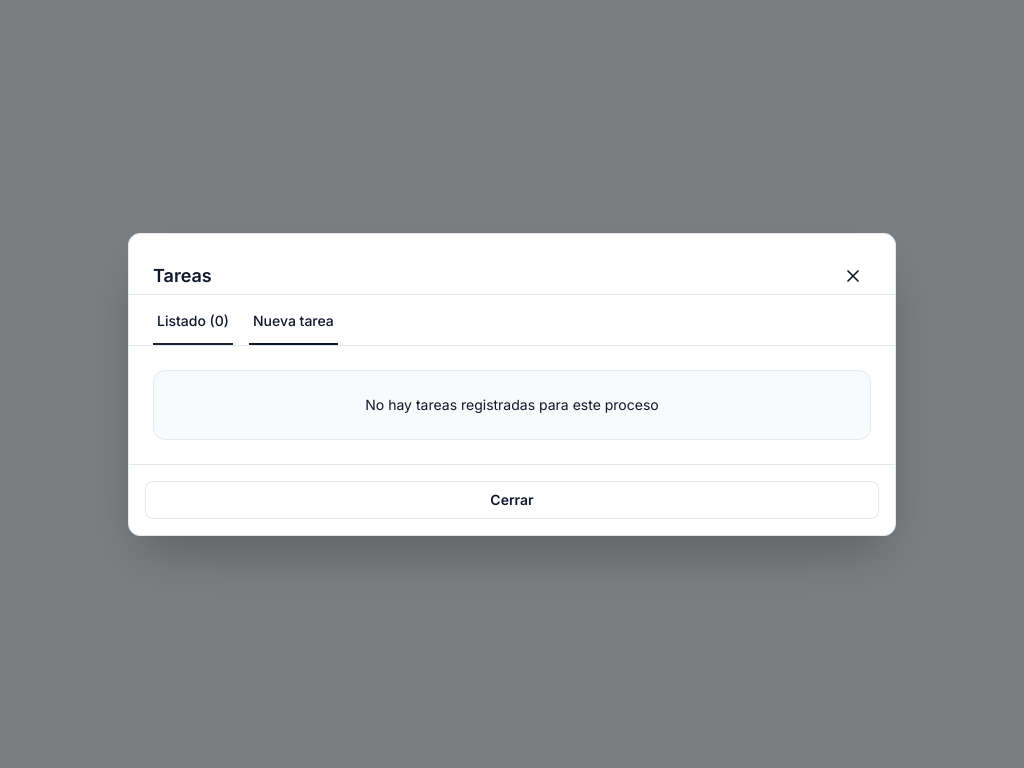
ProcessTasksModalComponent › cambia a la pestaña "Nueva tarea" al hacer clic
Step 1. Click the button "Nueva tarea" → click(293, 328), box top-left (249, 310), bottom-right (338, 344)
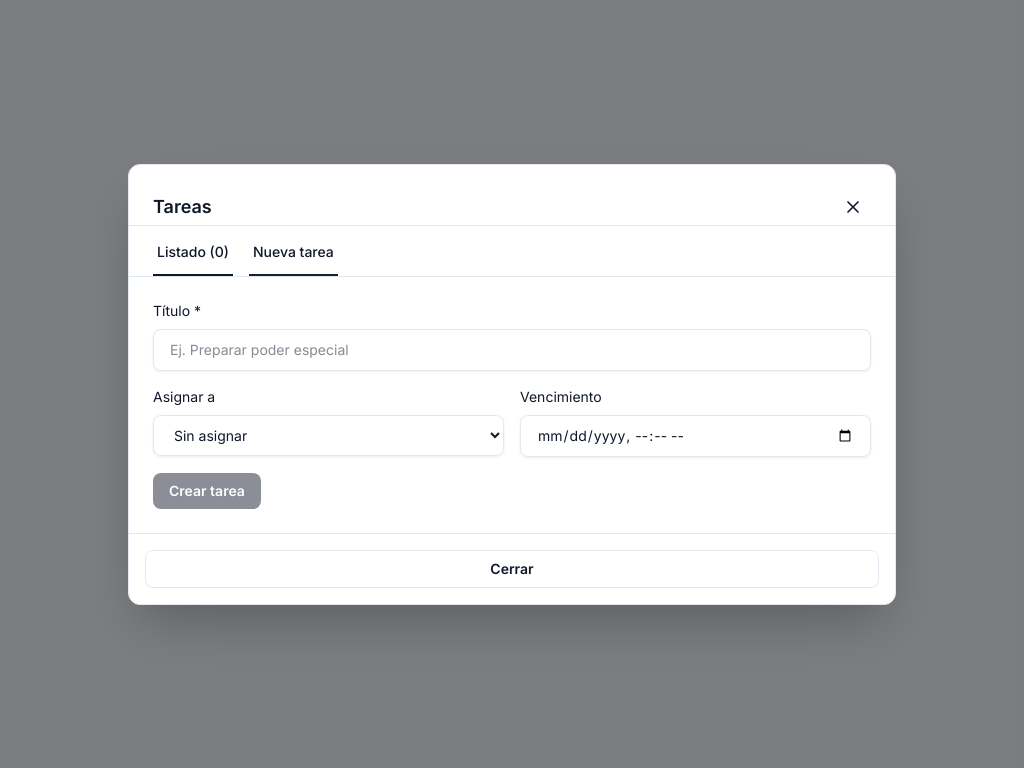
Expected: the form is shown, top-left (153, 300), bottom-right (871, 508)
